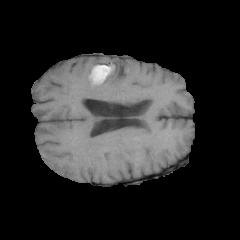glioma: (80, 58, 152, 102)
